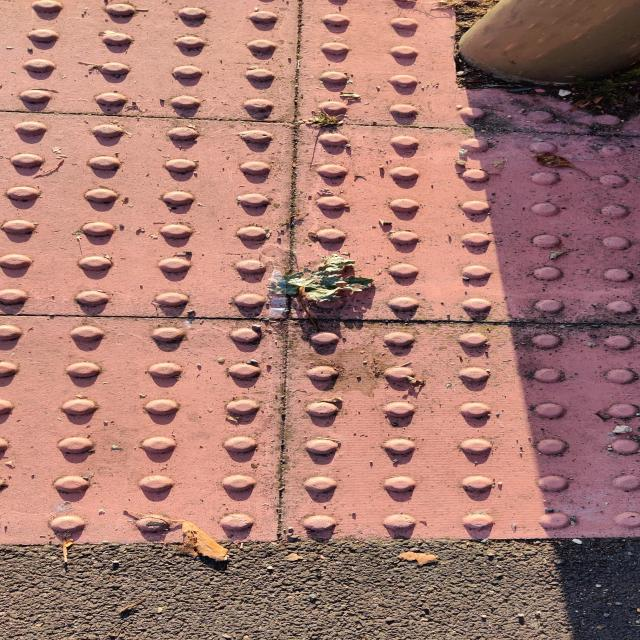litter: (267, 227, 371, 302)
